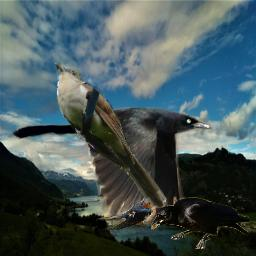Crow: (12, 105, 215, 227), (150, 197, 249, 249)
Cuckoo: (55, 63, 166, 208)
Swallow: (96, 197, 156, 230)
